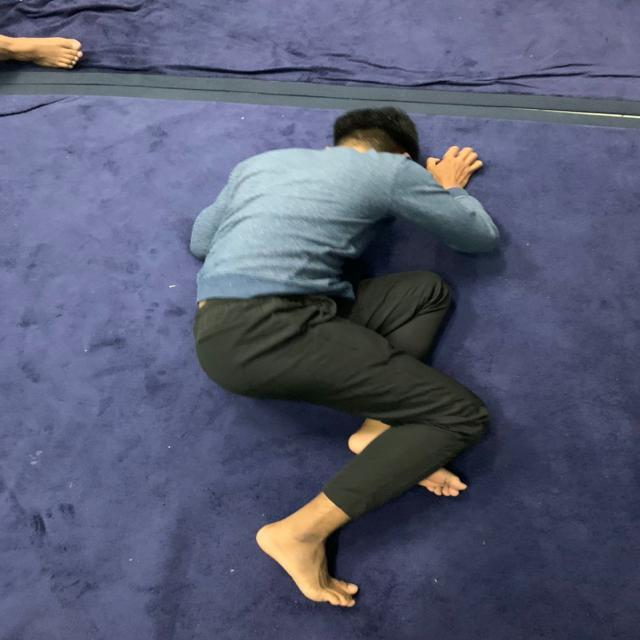fall: (169, 101, 506, 618)
